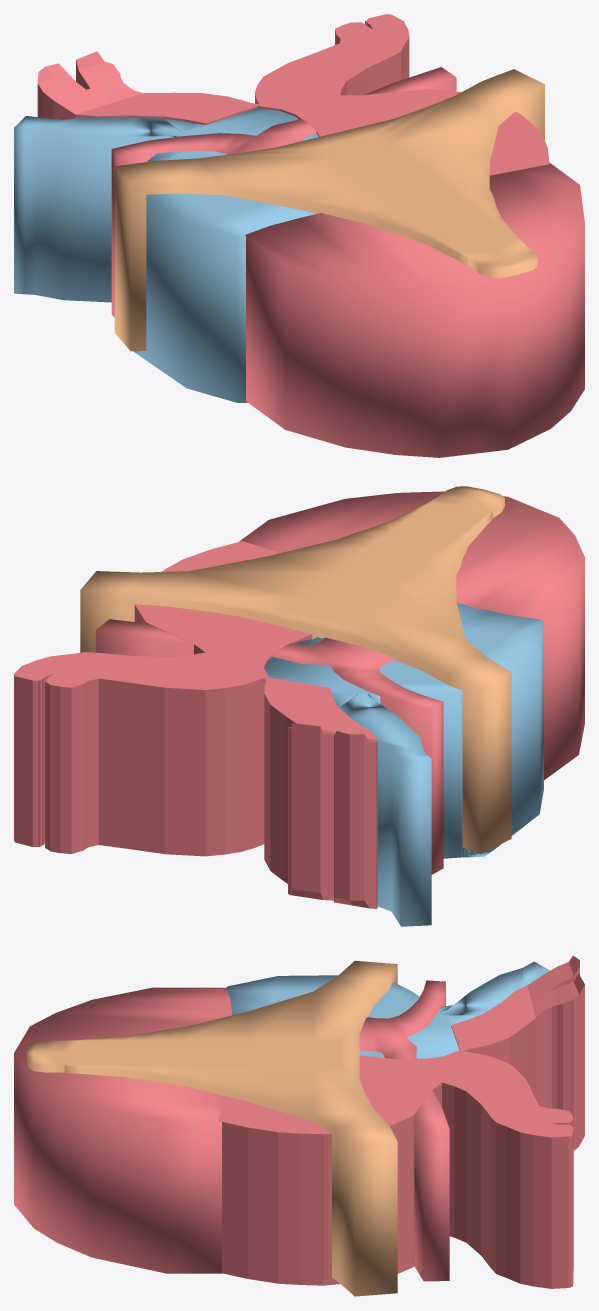
The model's file is heart.glb.
3 views of the same model, one above another, from view 1: azimuth 30°, elevation 25°; view 2: azimuth 150°, elevation 25°; view 3: azimuth 270°, elevation 25° (orthographic). The views are drawn at different scales.
Parts seen in each view (by area): view 1: Plane; view 2: Plane; view 3: Plane.
Boxes of the visible parts, x1,y1,x2,y2 form: Plane: (14,14,584,457); Plane: (14,486,584,926); Plane: (14,955,584,1296).
Size of the model in its own units: 4.5 by 1.94 by 5.64.
